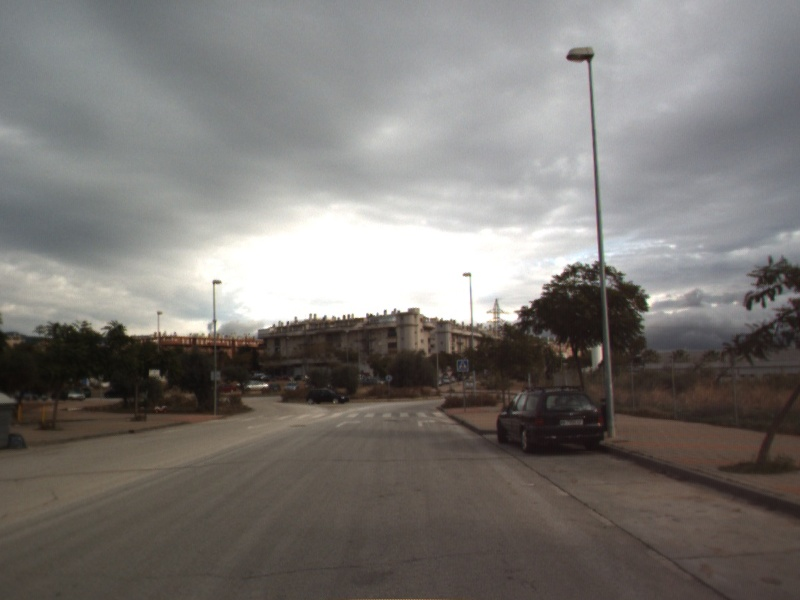RIGHT: (334, 418, 363, 429), (415, 417, 439, 429)
